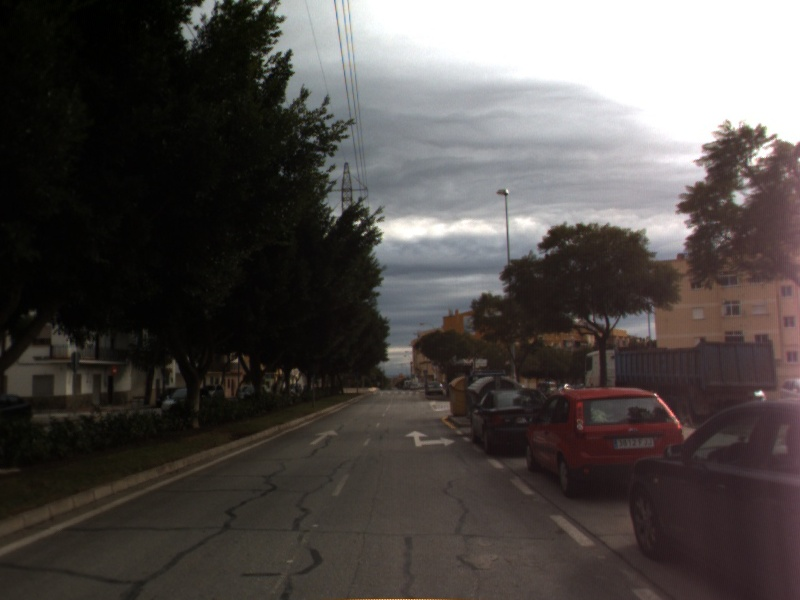STRAIGHT: (308, 427, 341, 447)
STRAIGHT_RIGHT: (403, 428, 458, 449)
